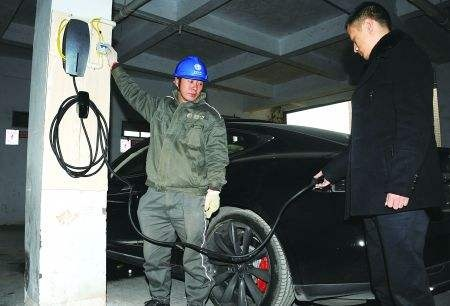blue: (171, 55, 207, 103)
none: (343, 3, 393, 60)
